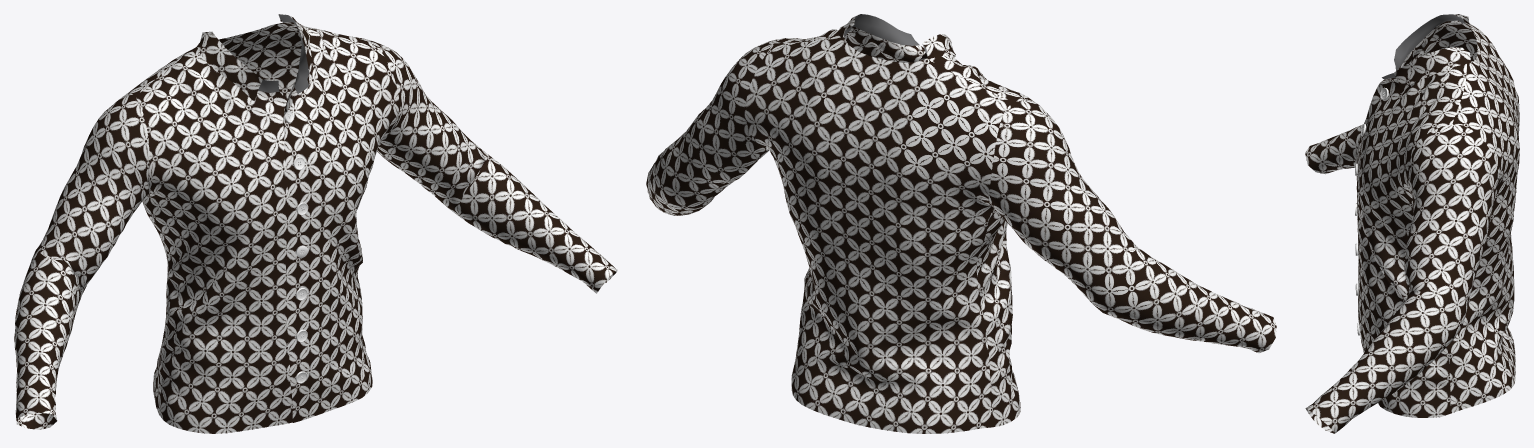
The model's file is Baju_Panjang.fbx.
3 renders of one model, left to right at view 1: azimuth 30°, elevation 25°; view 2: azimuth 150°, elevation 25°; view 3: azimuth 270°, elevation 25°, orthographic. The views are drawn at different scales.
Parts seen in each view (by area): view 1: Baju_LenganPanjang.001; view 2: Baju_LenganPanjang.001; view 3: Baju_LenganPanjang.001.
Part boxes in pixels (x1,y1,x2,y2): Baju_LenganPanjang.001: [14, 14, 617, 433]; Baju_LenganPanjang.001: [646, 14, 1276, 433]; Baju_LenganPanjang.001: [1305, 14, 1519, 433].
Bounding box in the file's own units: 1060 × 619 × 349.
Materials: 4 (2 with a texture image).
